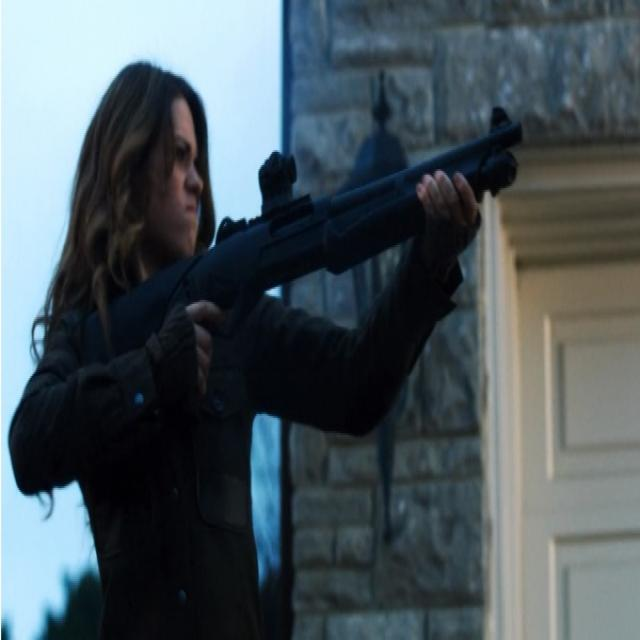rifle: (89, 101, 528, 378)
